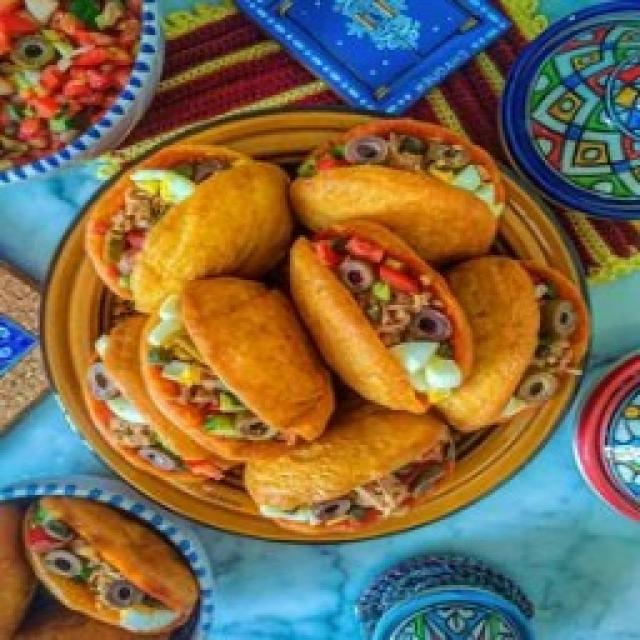Frecasse: (48, 90, 615, 542)
